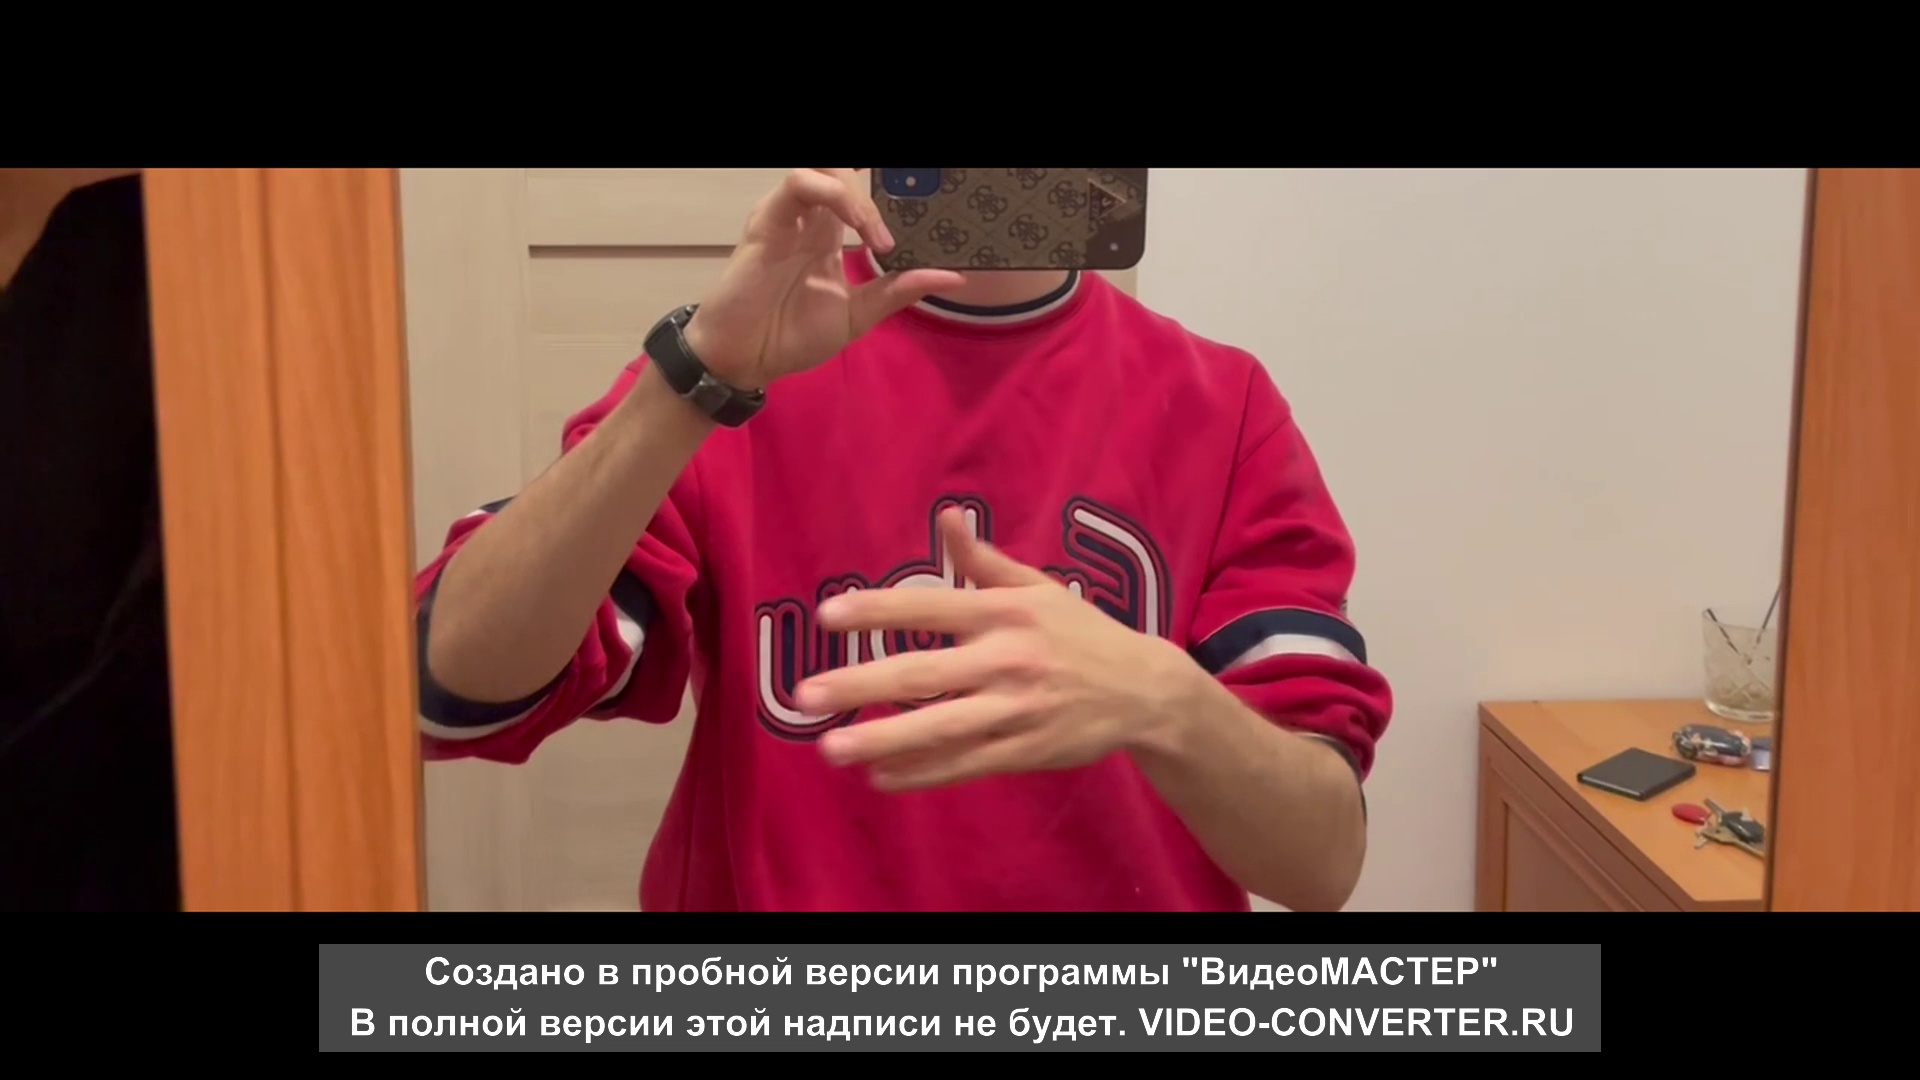Кисть: (795, 505, 1138, 786)
